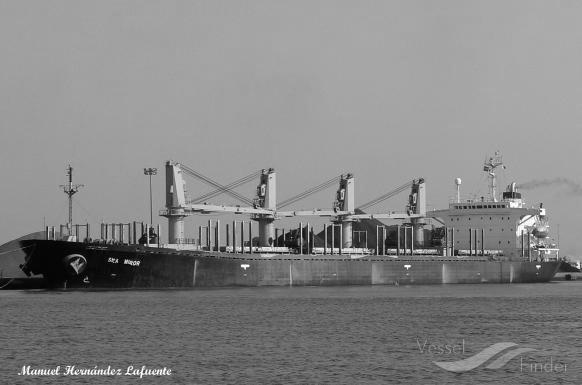OCR: (104, 252, 148, 268)
